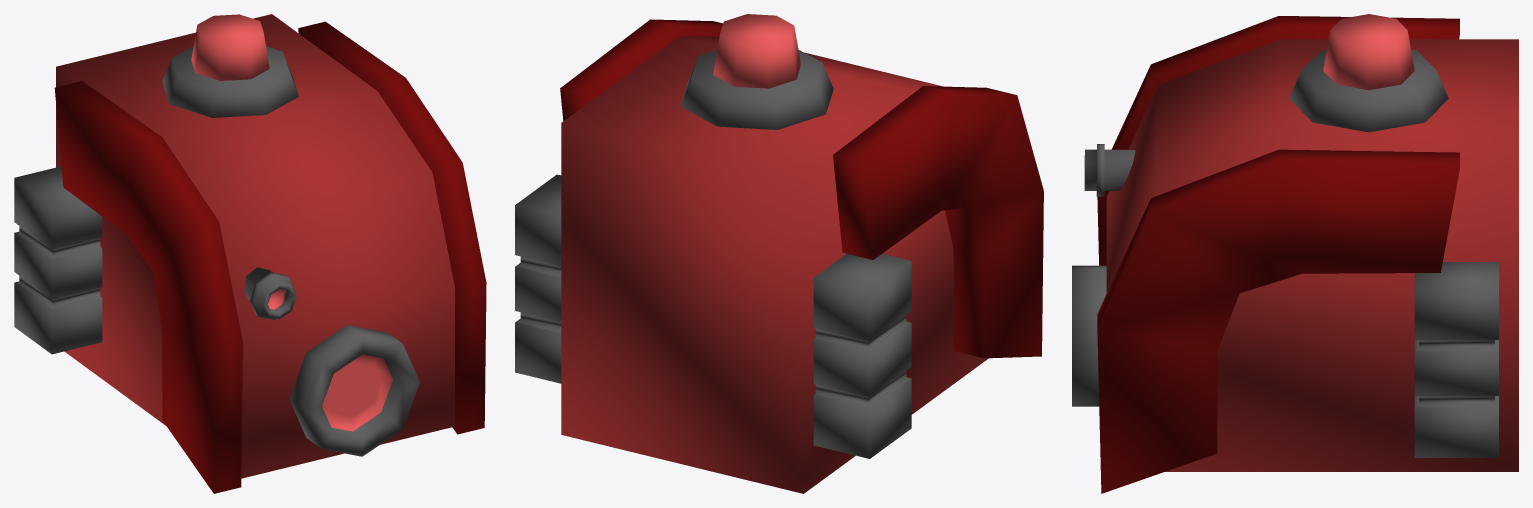
Rendered from Drone_01.fbx.
The picture shows the model from 3 angles, left to right: view 1: azimuth 30°, elevation 25°; view 2: azimuth 150°, elevation 25°; view 3: azimuth 270°, elevation 25°; orthographic projection. The views are drawn at different scales.
Visible parts, largest first — view 1: Drone.001; view 2: Drone.001; view 3: Drone.001.
Part boxes in pixels (x1,y1,x2,y2): Drone.001: (14, 14, 486, 493); Drone.001: (515, 14, 1043, 493); Drone.001: (1072, 14, 1518, 493).
Size of the model in its own units: 423 by 441 by 459.
